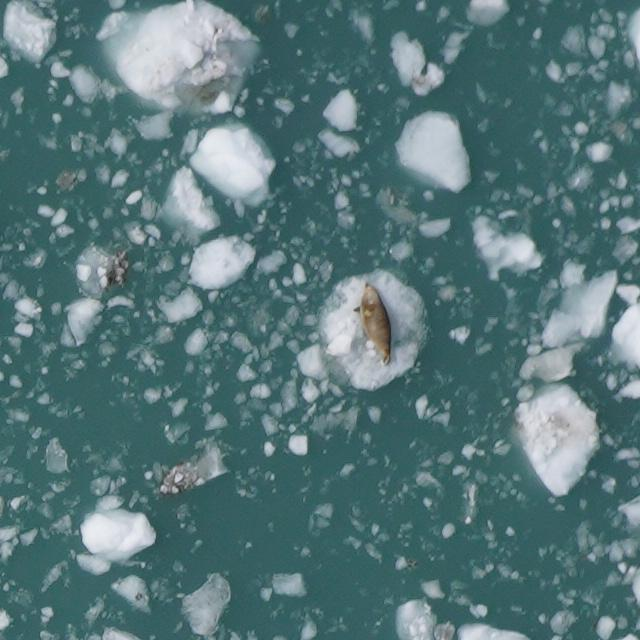seal: (344, 279, 408, 370)
